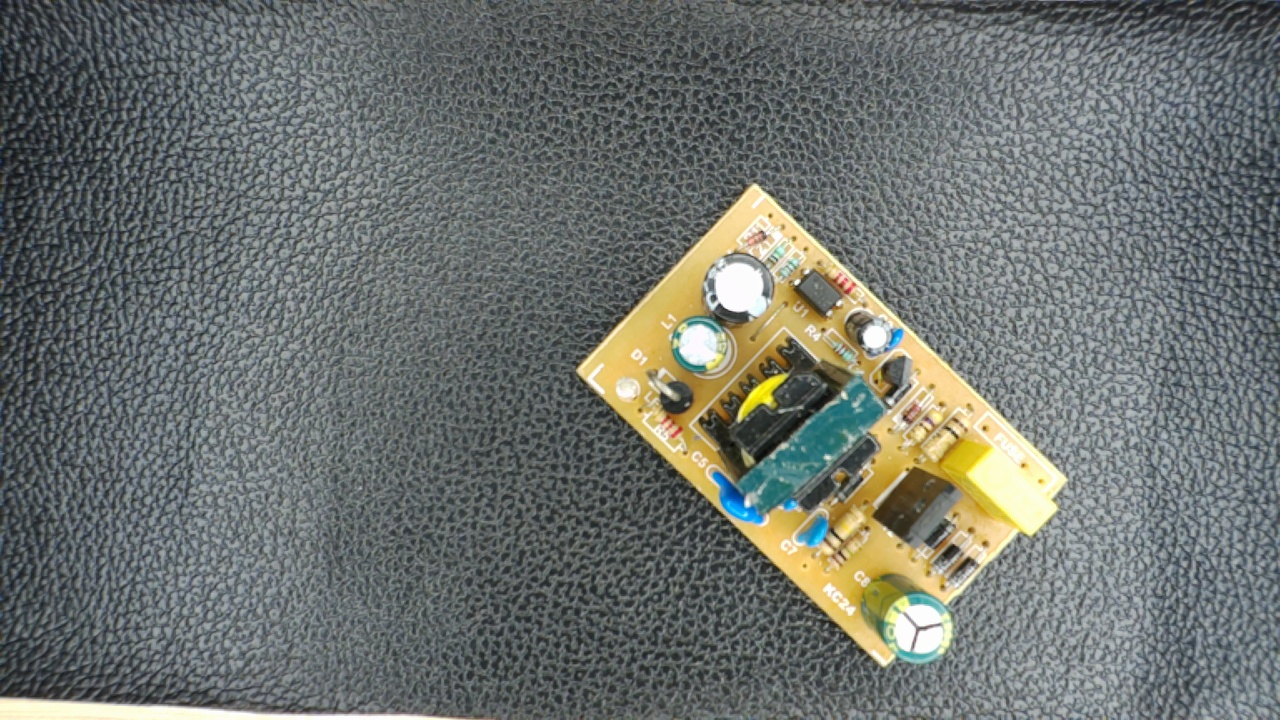hv_capacitor: (857, 576, 959, 663)
mov: (707, 465, 770, 525)
optocoupler: (788, 266, 848, 320)
